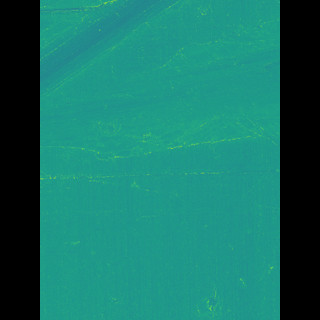Loch: (69, 0, 249, 163), (182, 275, 212, 319)
